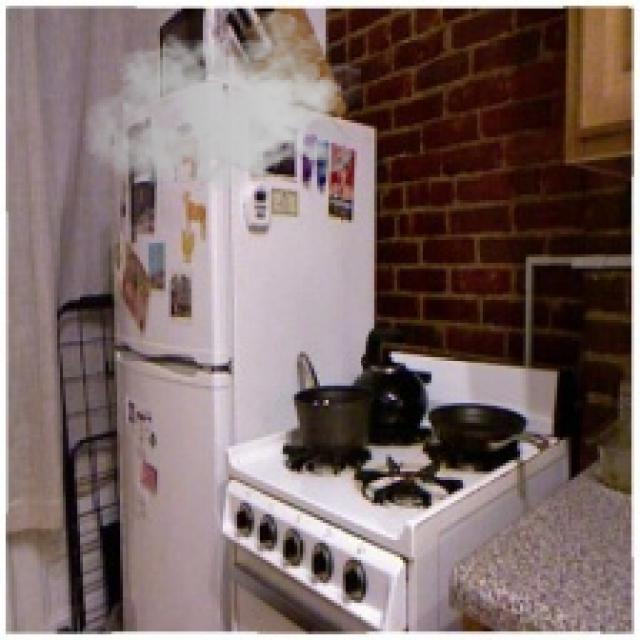Smoke: (83, 12, 360, 212)
